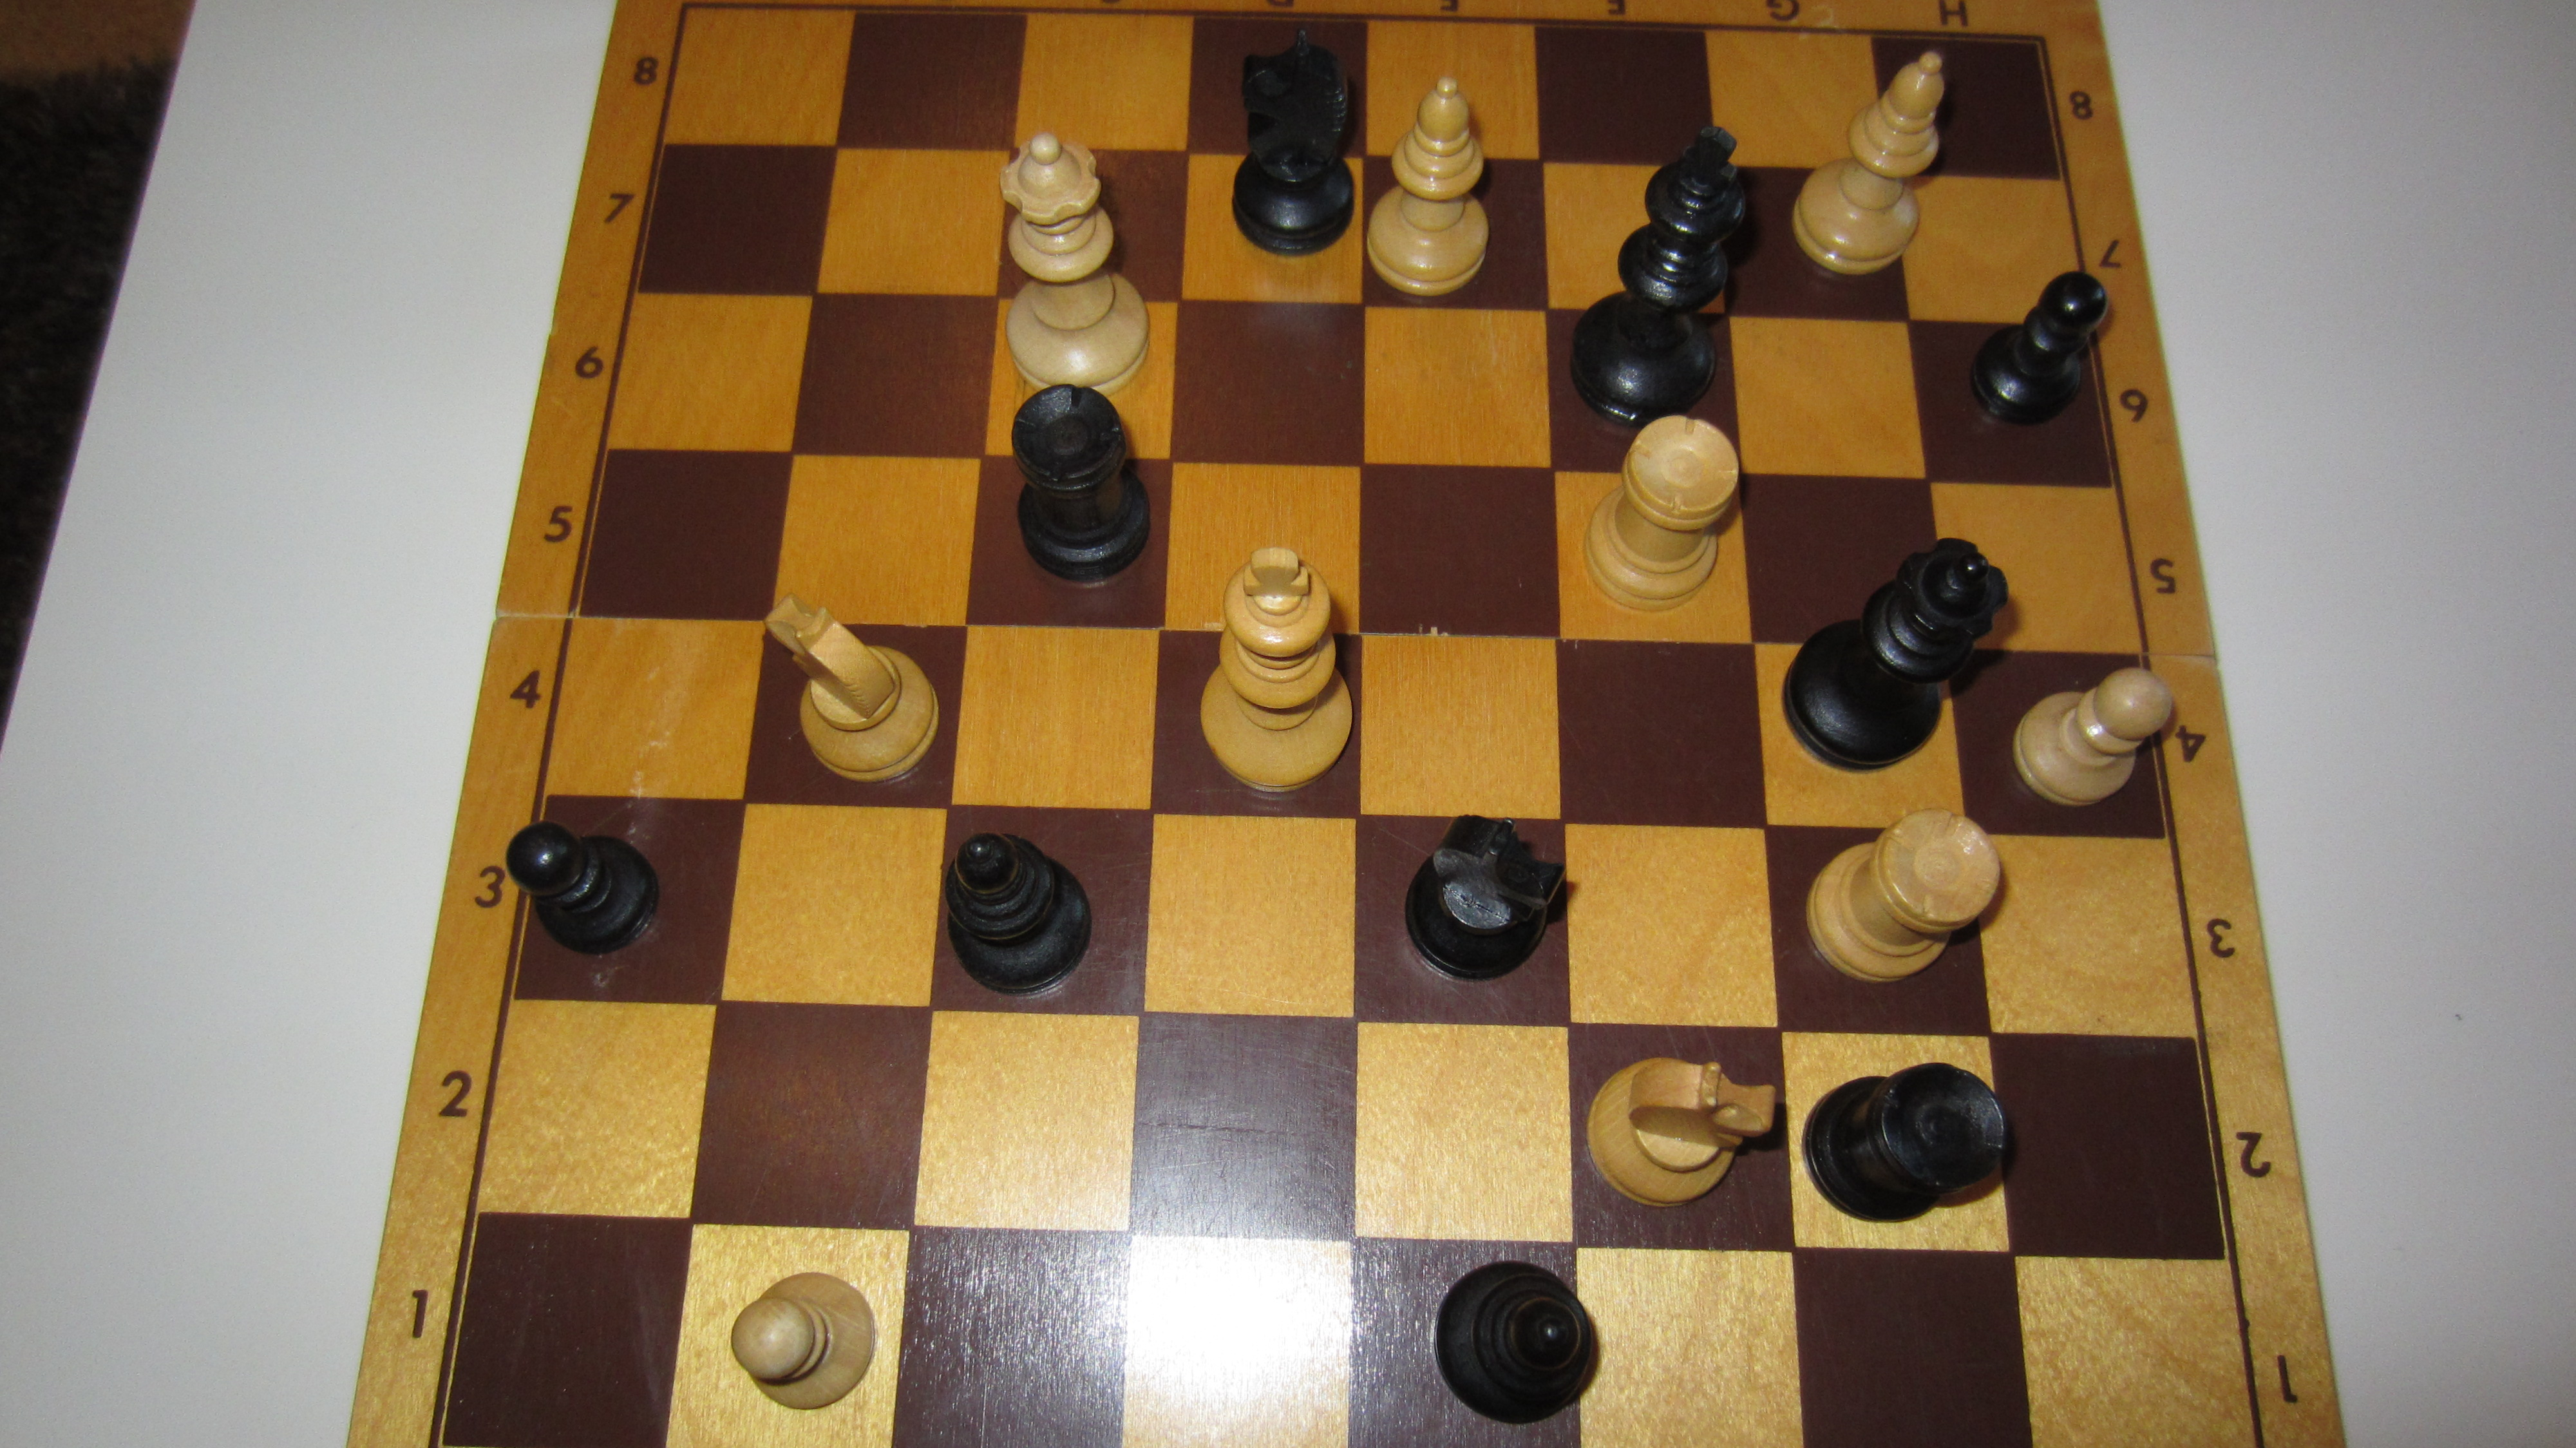black-bishop: (1431, 1259, 1596, 1427), (943, 830, 1092, 997)
black-king: (1568, 124, 1748, 430)
black-knight: (1230, 28, 1359, 257), (1403, 814, 1568, 982)
black-pawn: (1967, 267, 2109, 427), (504, 816, 660, 958)
black-queen: (1778, 535, 2010, 772)
black-rook: (1799, 1060, 2010, 1225), (1008, 384, 1152, 582)
white-bishop: (1789, 50, 1944, 274), (1364, 74, 1491, 297)
white-king: (1198, 545, 1353, 795)
white-knight: (763, 591, 939, 782), (1585, 1057, 1778, 1209)
white-pawn: (2008, 666, 2176, 807), (727, 1269, 878, 1413)
white-queen: (996, 133, 1150, 398)
white-rook: (1803, 805, 2005, 986), (1583, 414, 1739, 612)
